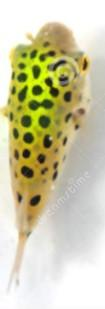Green Spotted Puffer: (3, 19, 93, 309)
